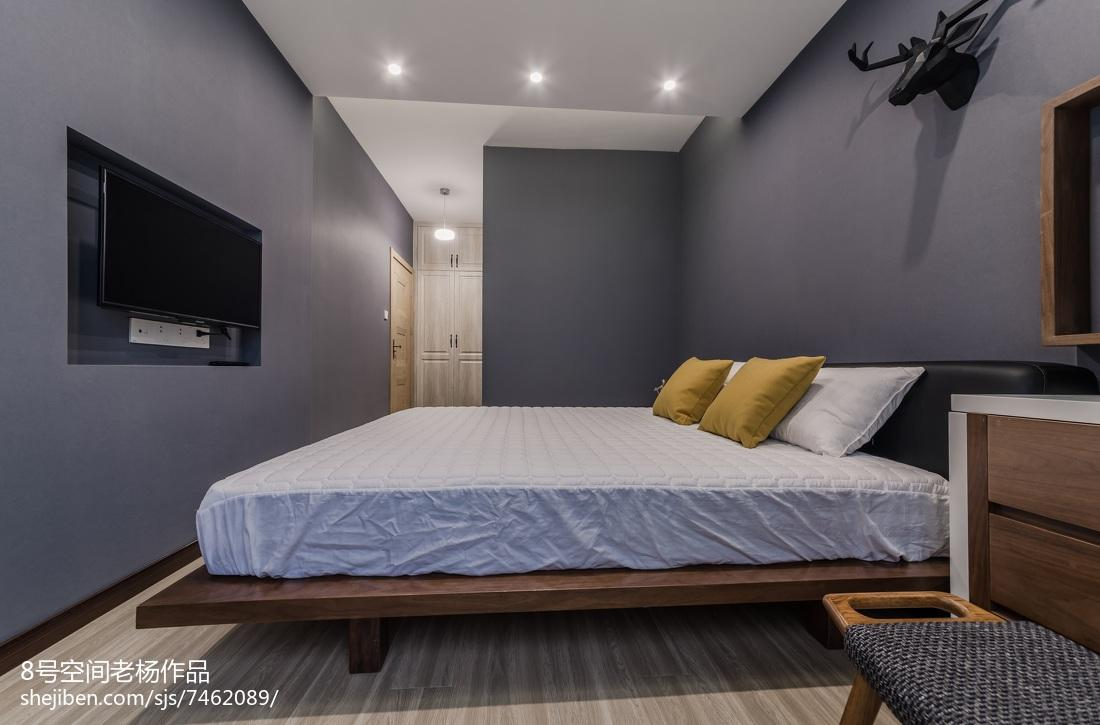床: (173, 404, 954, 616)
枕头: (649, 353, 919, 444)
灯: (431, 185, 459, 245), (380, 49, 415, 87), (526, 59, 556, 98), (651, 72, 685, 102)
